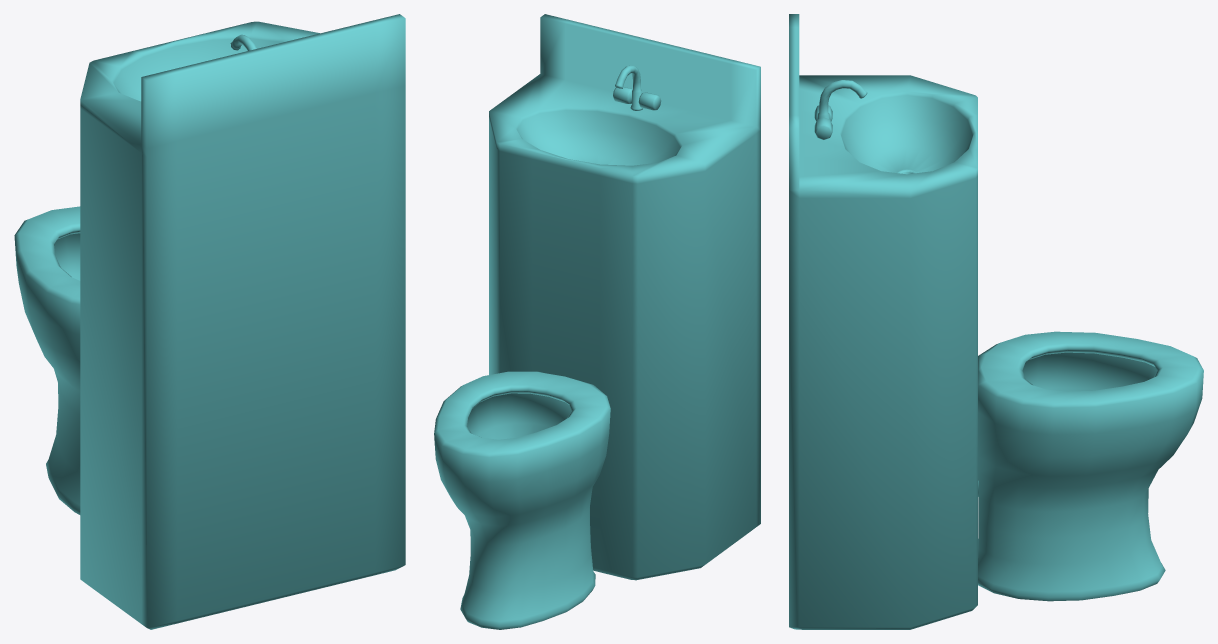
The model's file is SNWP_MOD_BUN_Toilet.fbx.
3 views of the same model, side by side, from view 1: azimuth 30°, elevation 25°; view 2: azimuth 150°, elevation 25°; view 3: azimuth 270°, elevation 25° (orthographic). The views are drawn at different scales.
Parts seen in each view (by area): view 1: SNWP_MOD_Toilet; view 2: SNWP_MOD_Toilet; view 3: SNWP_MOD_Toilet.
Boxes of the visible parts, x1=… form: SNWP_MOD_Toilet: x1=14, y1=14, x2=405, y2=629; SNWP_MOD_Toilet: x1=434, y1=14, x2=760, y2=629; SNWP_MOD_Toilet: x1=789, y1=14, x2=1203, y2=629.
Bounding box in the file's own units: 0.5933 × 1.21 × 0.9044.
